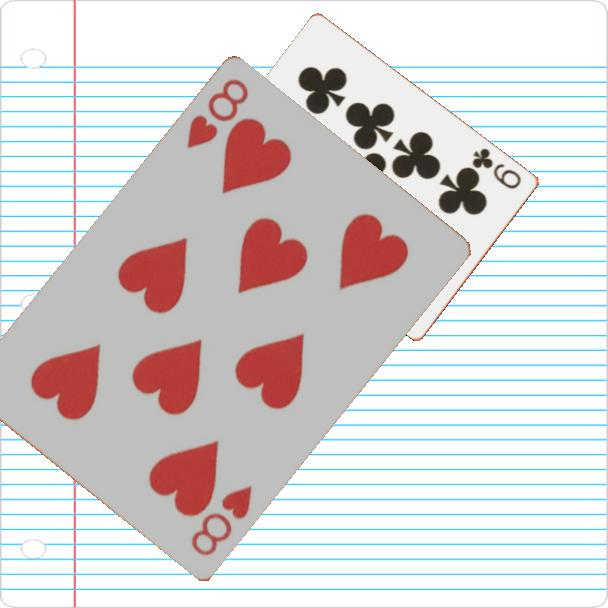c09: (469, 144, 525, 192)
h08: (187, 483, 256, 560), (183, 75, 252, 152)
